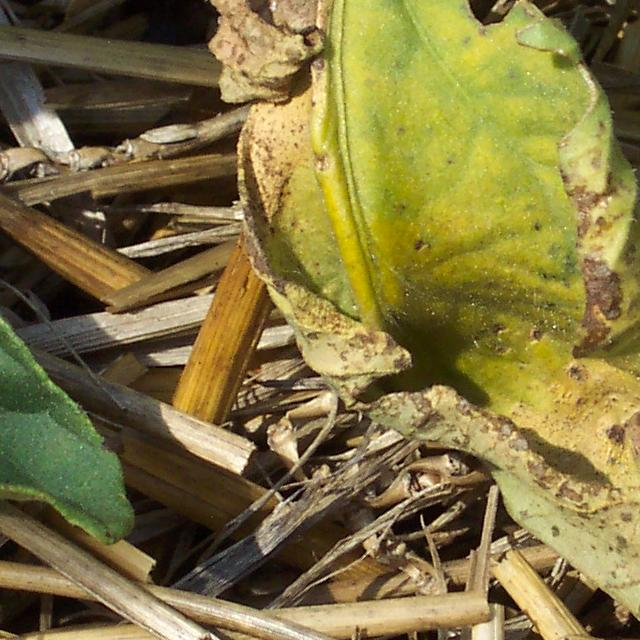Tomato Early blight leaf: (141, 0, 640, 639)
